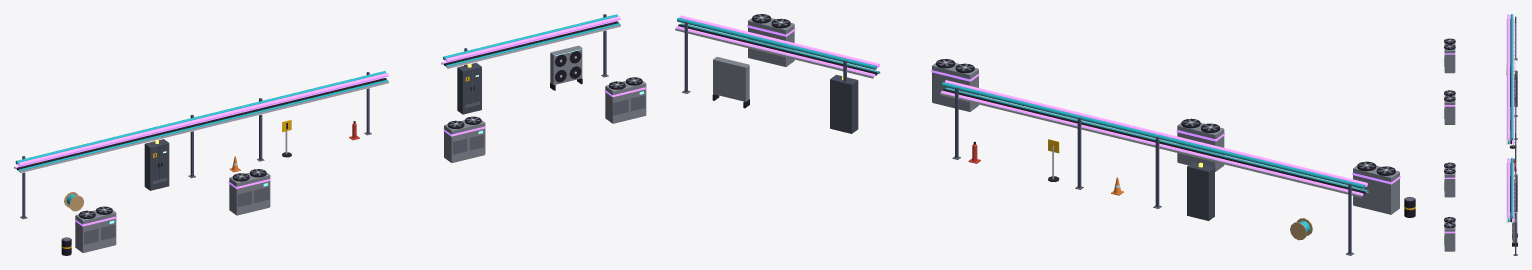
File: einrichtung_kabeltrasse.glb
3 renders of one model, left to right at view 1: azimuth 30°, elevation 25°; view 2: azimuth 150°, elevation 25°; view 3: azimuth 270°, elevation 25°, orthographic. The views are drawn at different scales.
Parts seen in each view (by area): view 1: einrichtung_kabeltrasse; view 2: einrichtung_kabeltrasse; view 3: einrichtung_kabeltrasse.
Boxes of the visible parts, x1,y1,x2,y2 form: einrichtung_kabeltrasse: (14, 14, 646, 255); einrichtung_kabeltrasse: (675, 14, 1415, 255); einrichtung_kabeltrasse: (1444, 14, 1517, 255).
Bounding box in the file's own units: 24.6 × 2.4 × 3.8.
